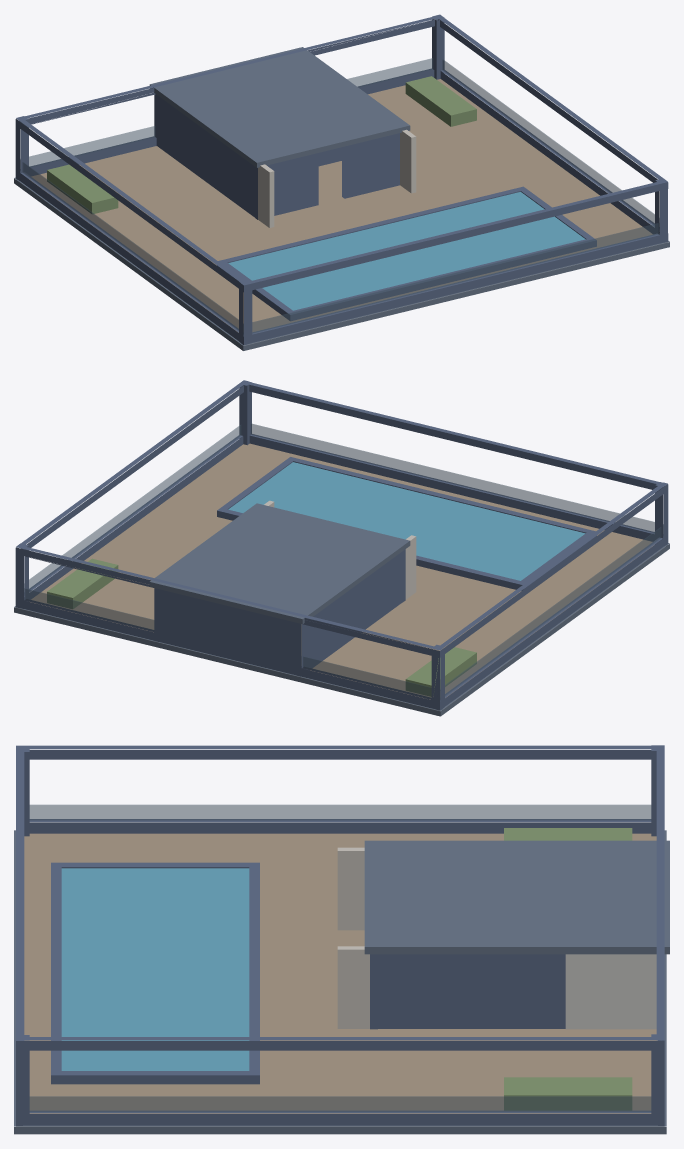
The model's file is office-roof-b.reveal-v1.lod0.glb.
3 views of the same model, one above another, from view 1: azimuth 30°, elevation 25°; view 2: azimuth 150°, elevation 25°; view 3: azimuth 270°, elevation 25° (orthographic). The views are drawn at different scales.
Parts seen in each view (by area): view 1: office-roof-b; view 2: office-roof-b; view 3: office-roof-b.
Part boxes in pixels (<box>): office-roof-b: <box>14,14,669,350</box>; office-roof-b: <box>14,380,669,716</box>; office-roof-b: <box>14,745,669,1134</box>.
Bounding box in the file's own units: 26.16 × 3.86 × 24.48.
